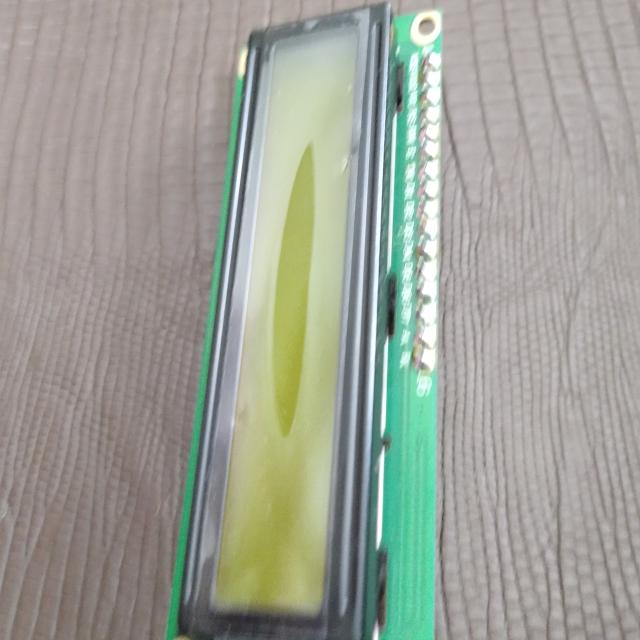lcd: (165, 2, 443, 638)
